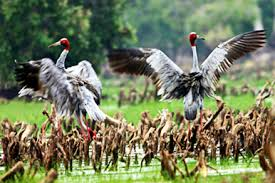seu_dau_do: (112, 29, 268, 123), (15, 37, 103, 122)
